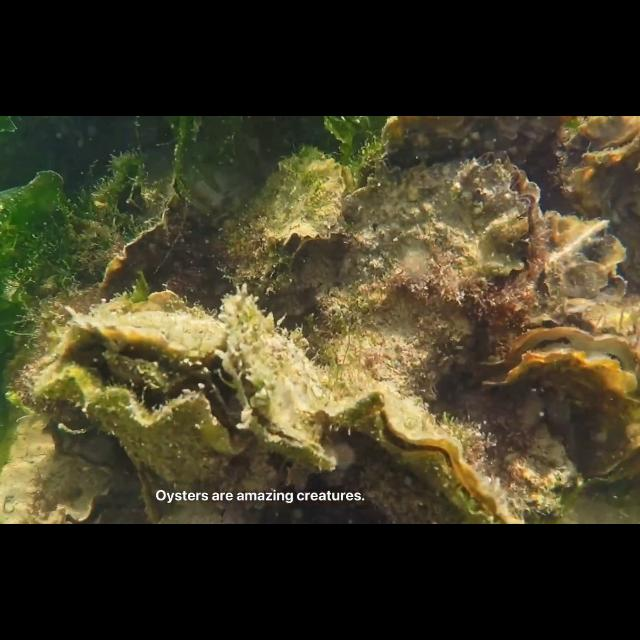Oyster-Closed: (379, 115, 566, 212), (96, 184, 220, 302)
Oyster-Open: (337, 150, 543, 400), (36, 310, 254, 482), (308, 386, 518, 524), (221, 294, 337, 476), (477, 326, 639, 416), (560, 116, 640, 294), (532, 215, 630, 328), (262, 156, 346, 258), (0, 453, 118, 524), (218, 202, 294, 296), (124, 442, 174, 524), (586, 426, 640, 490)
